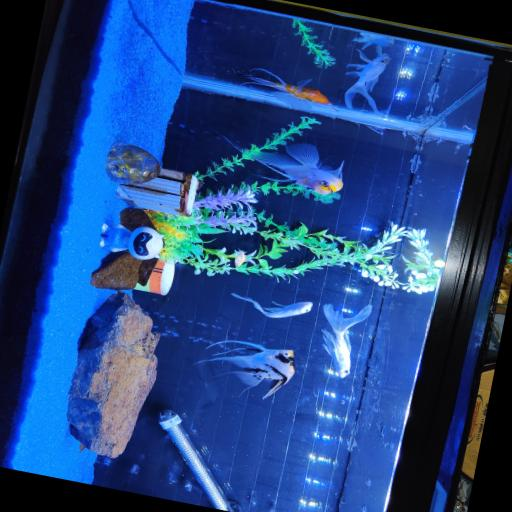Fish: (194, 340, 293, 399), (249, 144, 343, 195), (237, 68, 334, 110), (321, 304, 371, 377), (344, 51, 389, 112), (230, 293, 311, 318), (353, 33, 393, 55), (233, 250, 245, 266)
